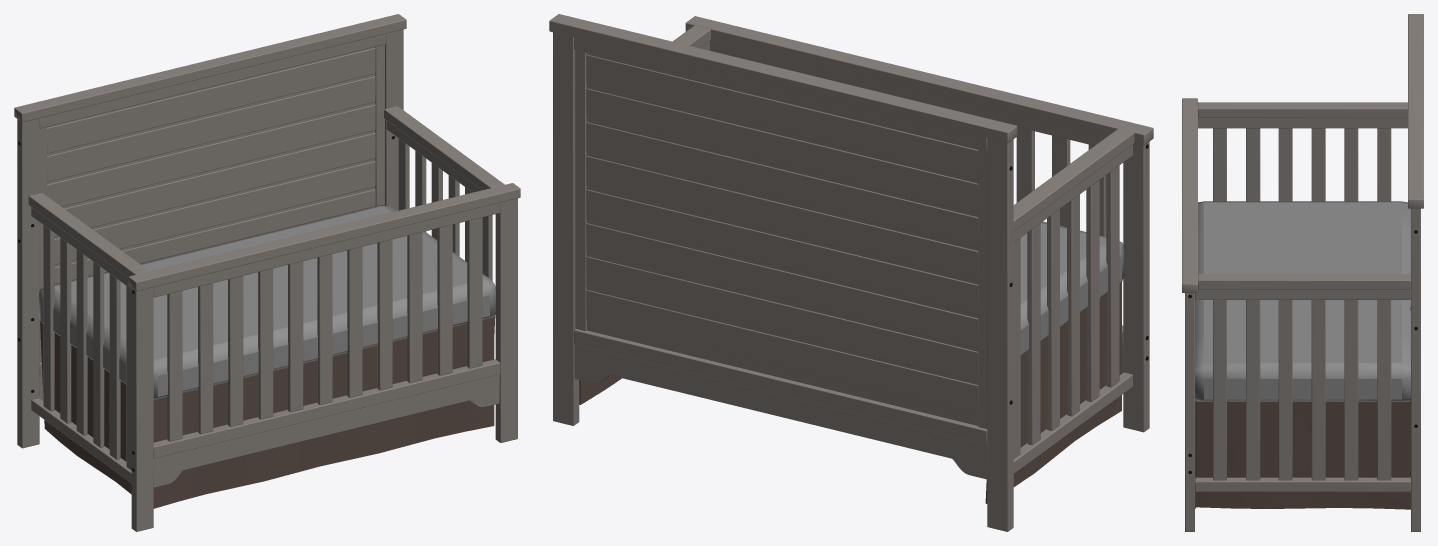
The model's file is uploads_files_2391010_bambibaby_crib1.fbx.
3 renders of one model, left to right at view 1: azimuth 30°, elevation 25°; view 2: azimuth 150°, elevation 25°; view 3: azimuth 270°, elevation 25°, orthographic. The views are drawn at different scales.
Parts seen in each view (by area): view 1: Box014, Box015, Plane002; view 2: Box014, Plane002, Box015; view 3: Box014, Box015, Plane002.
Part boxes in pixels (bbox=[...]): Box014: bbox=[14, 14, 520, 531]; Box015: bbox=[38, 205, 495, 399]; Plane002: bbox=[40, 316, 495, 508]; Box014: bbox=[549, 14, 1153, 531]; Plane002: bbox=[579, 282, 1121, 503]; Box015: bbox=[1020, 221, 1124, 355]; Box014: bbox=[1182, 14, 1423, 531]; Box015: bbox=[1195, 201, 1410, 401]; Plane002: bbox=[1195, 401, 1410, 509].
Size of the model in its own units: 143 by 119 by 78.56.
